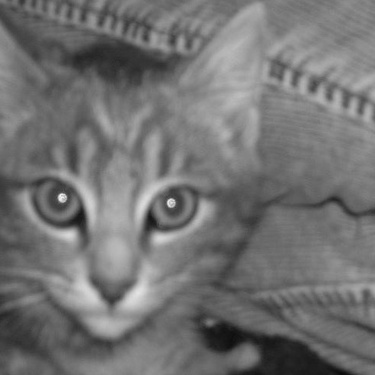cat: (1, 6, 348, 359)
